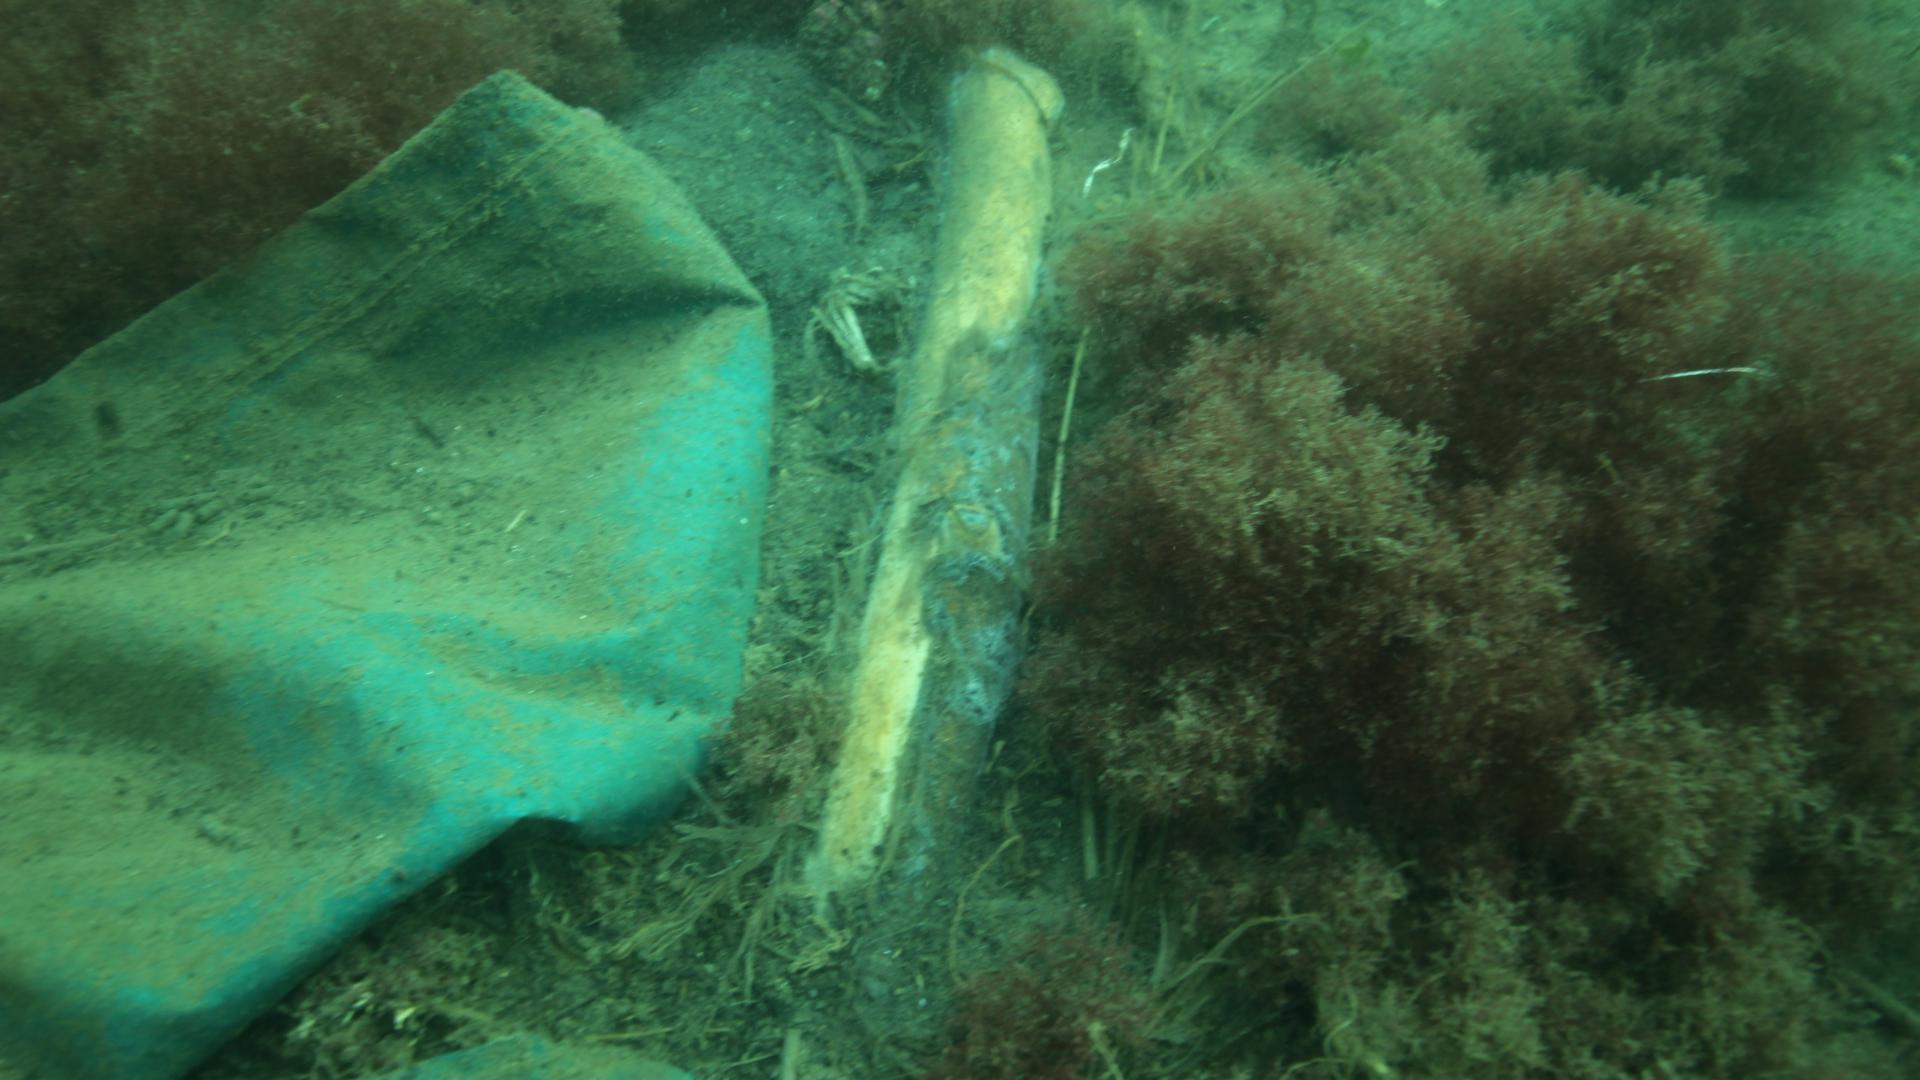wood: (811, 46, 1062, 874)
